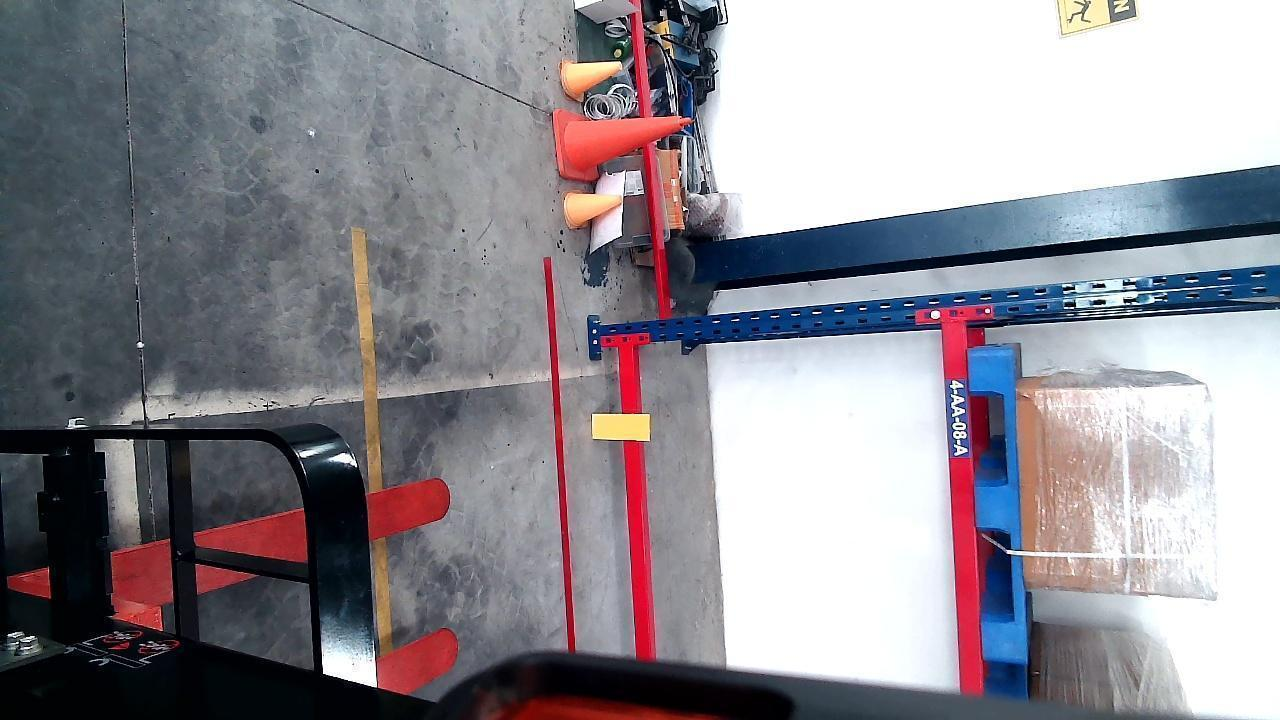red_line: (545, 248, 577, 653)
yellow_line: (347, 221, 394, 652)
